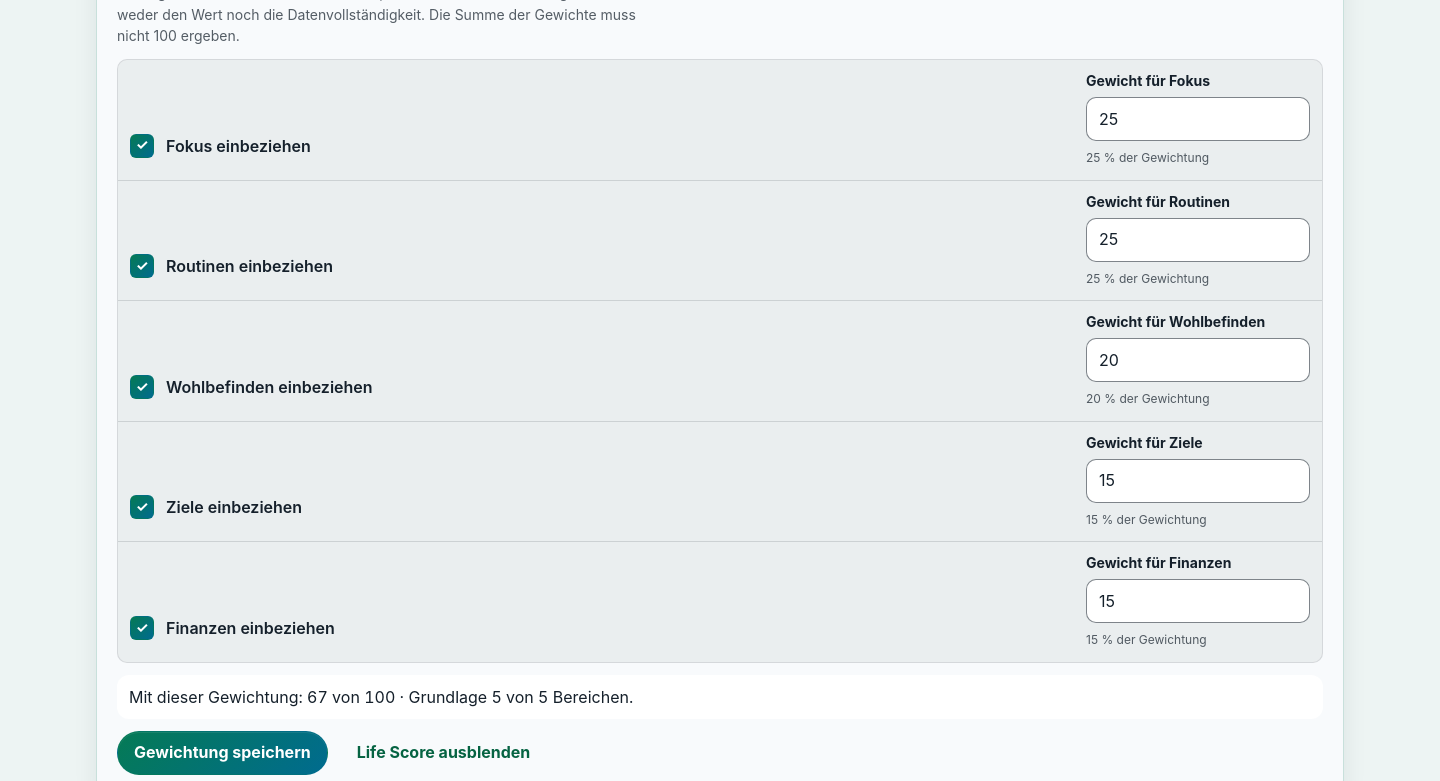
Test: InsightsPage – Bereiche und Gewichtung › hides the score without deleting anything and offers it back
(page scrolled)
Click the button "Life Score ausblenden" at (444, 753), box top-left (340, 731), bottom-right (547, 775)
(page scrolled)
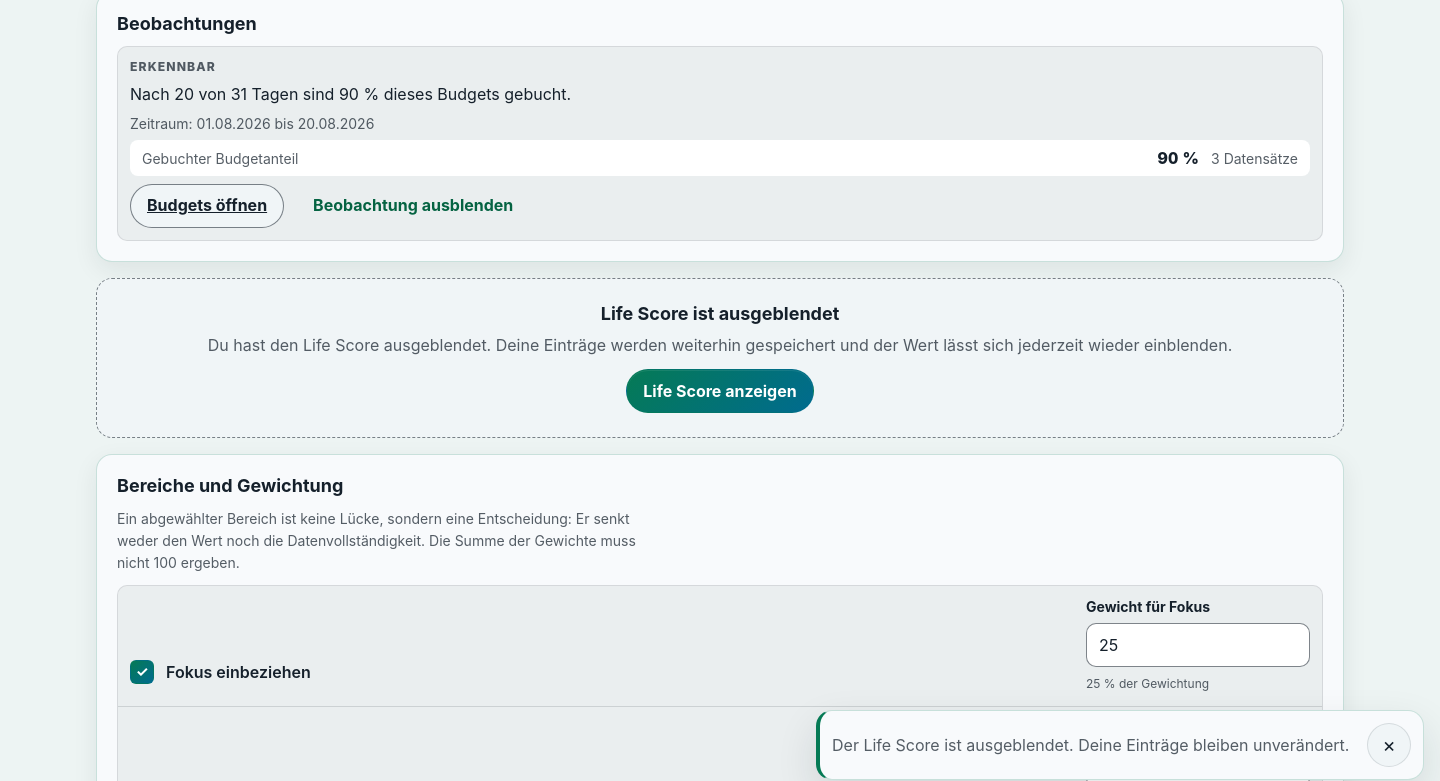
expect the heading "Life Score ist ausgeblendet" is shown: met, box top-left (601, 303), bottom-right (839, 324)
expect the text "Deine Einträge werden weiterhin gespeichert und der Wert lässt sich jederzeit wieder einblenden." is shown: met, box top-left (208, 335), bottom-right (1232, 355)
Click the button "Life Score anzeigen" at (720, 391), box top-left (626, 369), bottom-right (814, 413)
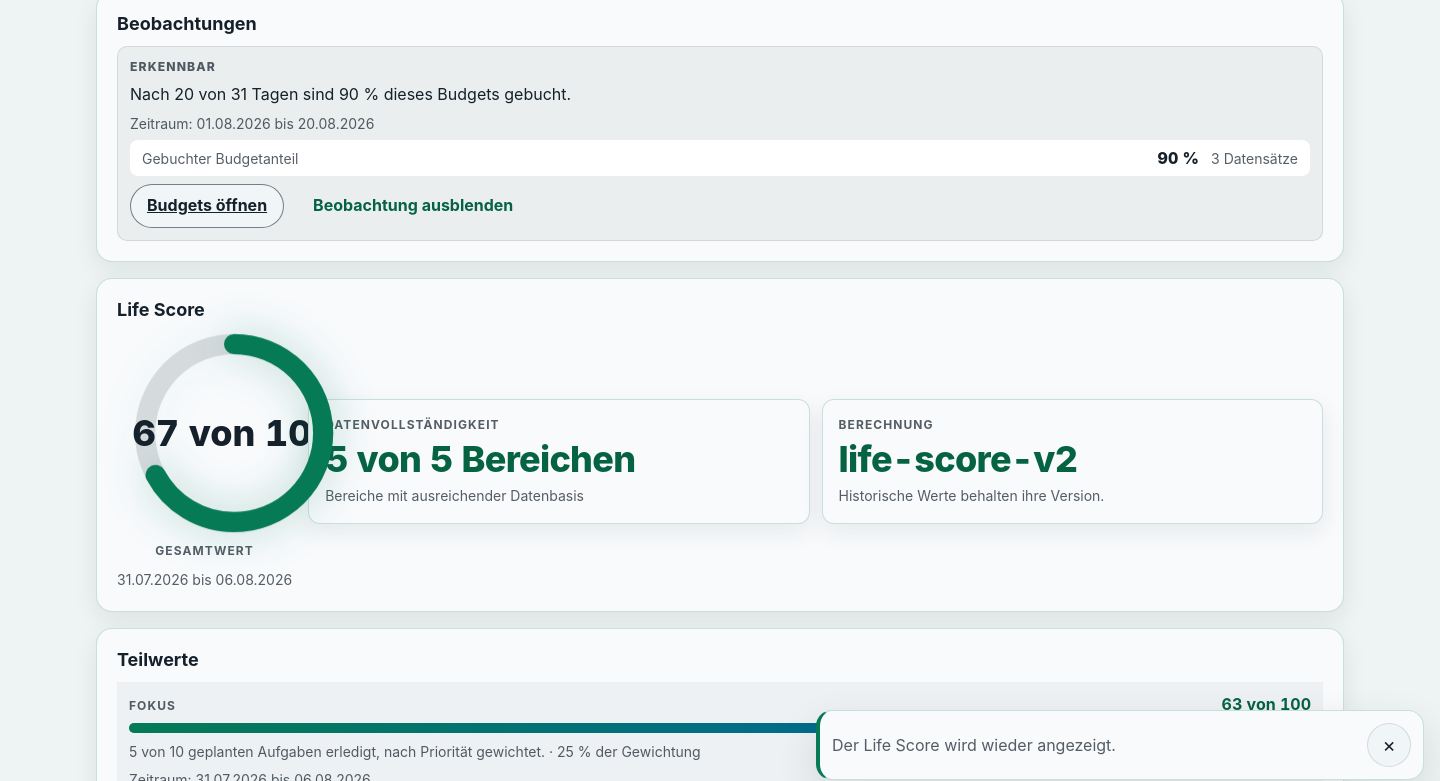
expect the text "67 von 100" is shown: met, box top-left (133, 412), bottom-right (335, 455)
